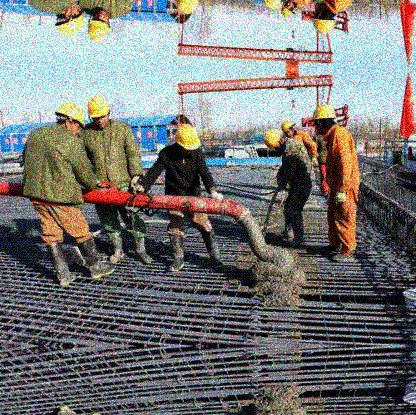helmet: (54, 102, 85, 137), (55, 4, 85, 36), (87, 10, 112, 44), (174, 123, 201, 154), (87, 95, 112, 128), (311, 105, 336, 137), (311, 6, 337, 34), (263, 129, 286, 153), (281, 1, 297, 19), (281, 120, 295, 138)
